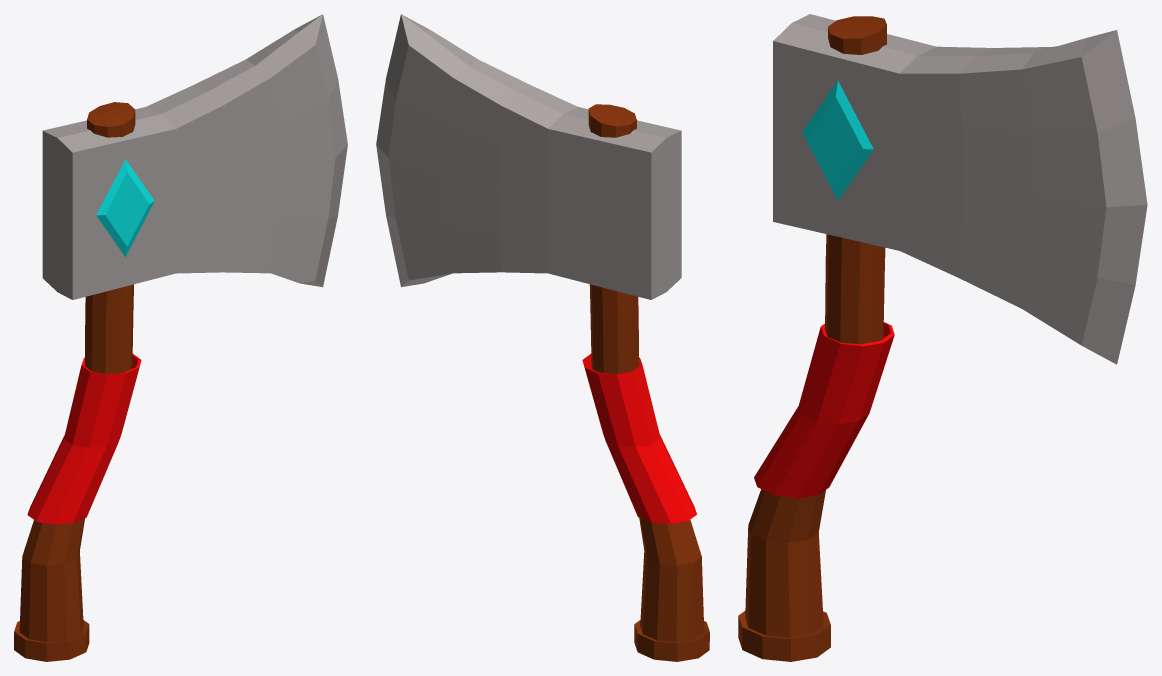
Rendered from machado.fbx.
The picture shows the model from 3 angles, left to right: view 1: azimuth 30°, elevation 25°; view 2: azimuth 150°, elevation 25°; view 3: azimuth 330°, elevation 25°; orthographic projection. The views are drawn at different scales.
Parts seen in each view (by area): view 1: Machado; view 2: Machado; view 3: Machado.
Part boxes in pixels (left/top/right/bottom): Machado: left=14, top=14, right=347, bottom=661; Machado: left=376, top=14, right=709, bottom=661; Machado: left=738, top=14, right=1147, bottom=661.
Bounding box in the file's own units: 36.93 × 60.89 × 7.06.
